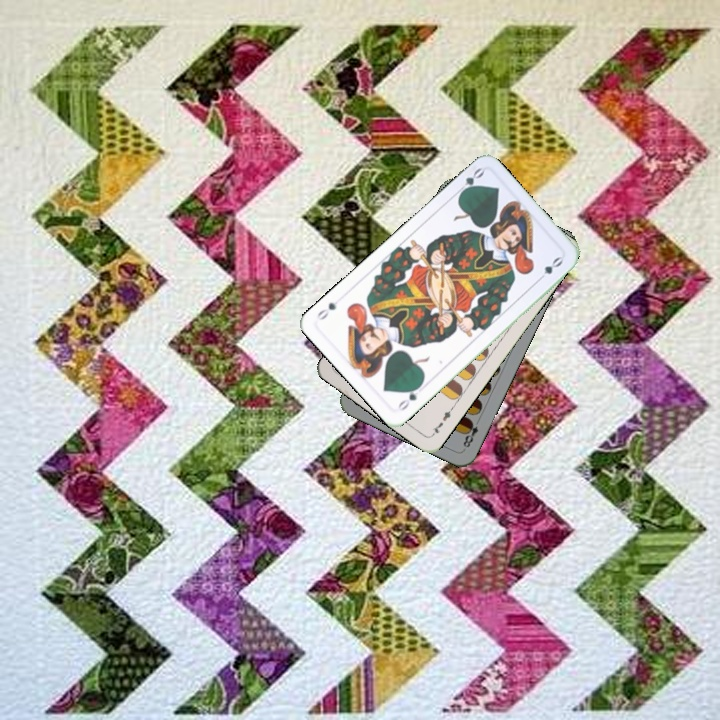E7: (428, 403, 456, 438)
E8: (459, 414, 483, 450)
GO: (452, 164, 487, 199), (393, 380, 425, 413)
